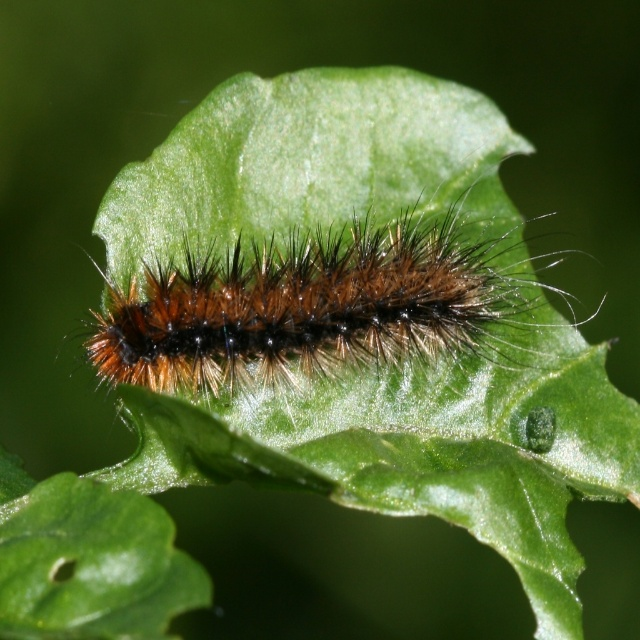Caterpillar: (56, 177, 612, 399)
